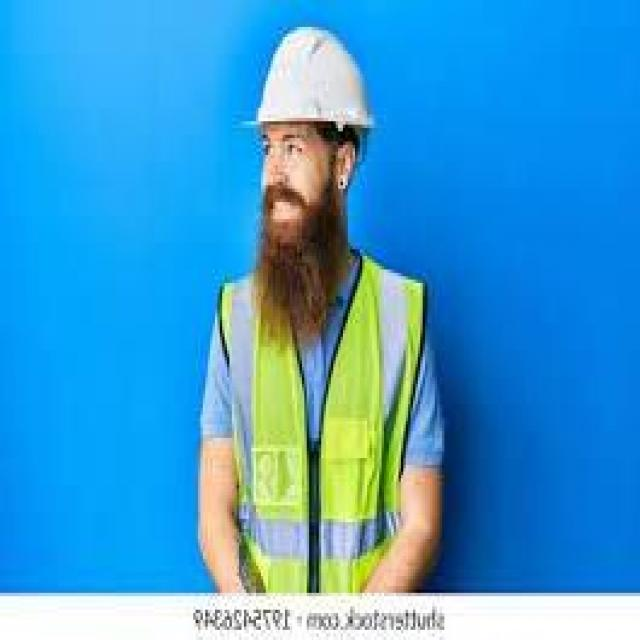Reflective-Jacket: (208, 256, 434, 589)
Safety-Helmet: (249, 20, 374, 145)
